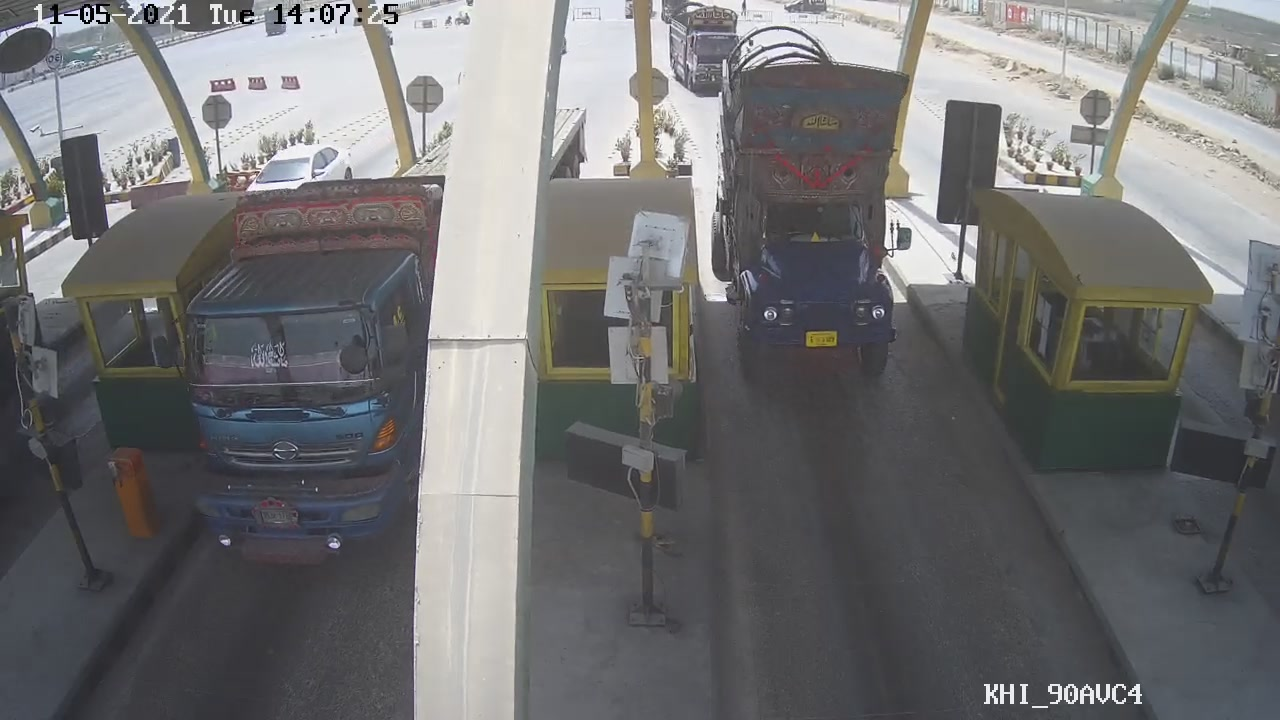F5: (700, 25, 920, 378)
